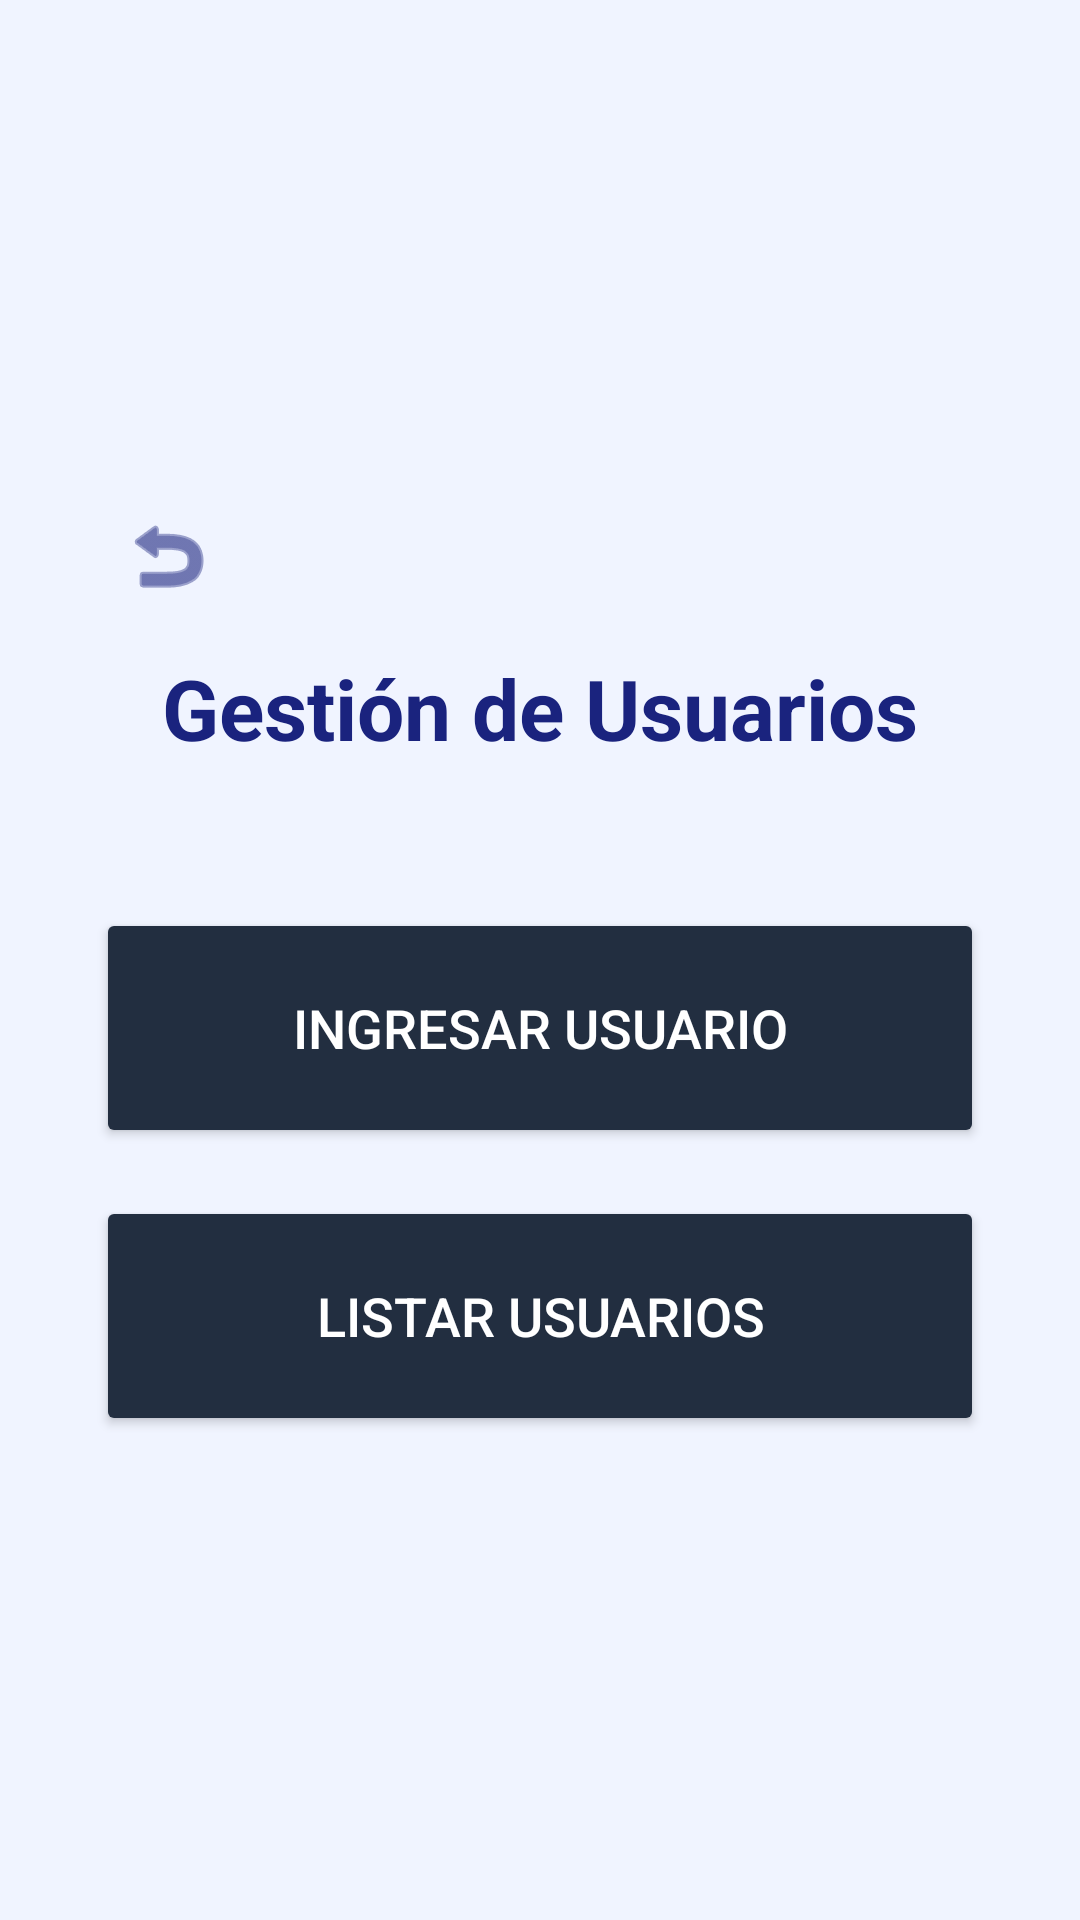

Icon bounding boxes for this 1080*1920 phone screenshot, format (x1, y1, x2, y2):
Volver: (135, 525, 204, 588)
